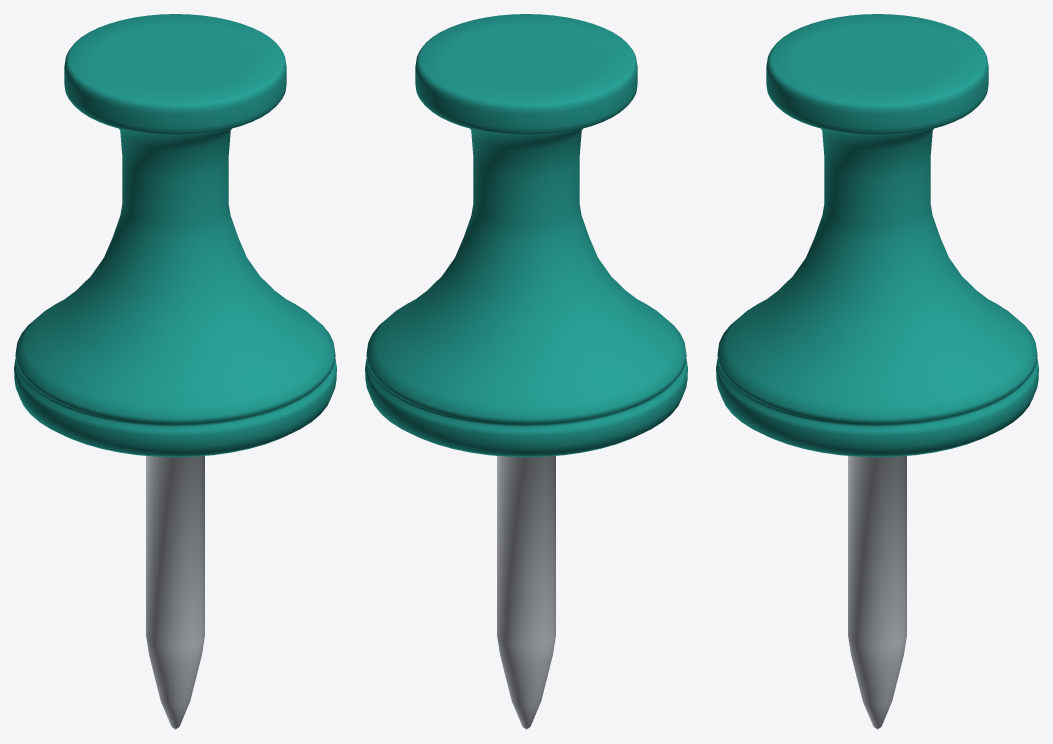
File: thumbtack_teal.glb
The picture shows the model from 3 angles, left to right: view 1: azimuth 30°, elevation 25°; view 2: azimuth 150°, elevation 25°; view 3: azimuth 270°, elevation 25°; orthographic projection.
Parts seen in each view (by area): view 1: Plastic_Head, Steel_Pin; view 2: Plastic_Head, Steel_Pin; view 3: Plastic_Head, Steel_Pin.
Boxes of the visible parts, <box> form: Plastic_Head: <box>14,14,336,457</box>; Steel_Pin: <box>146,456,204,729</box>; Plastic_Head: <box>365,14,687,457</box>; Steel_Pin: <box>497,456,555,729</box>; Plastic_Head: <box>716,14,1038,457</box>; Steel_Pin: <box>848,456,906,729</box>.
Size of the model in its own units: 0.009 by 0.0206 by 0.009.
